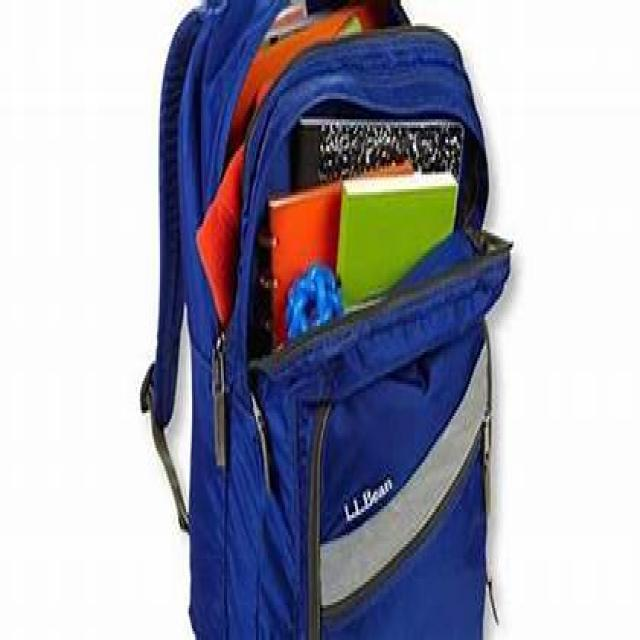backpack: (140, 1, 513, 638)
